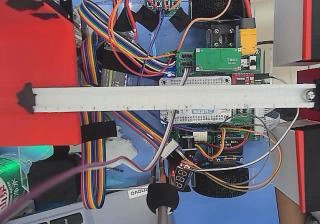ironball: (305, 88, 314, 100)
